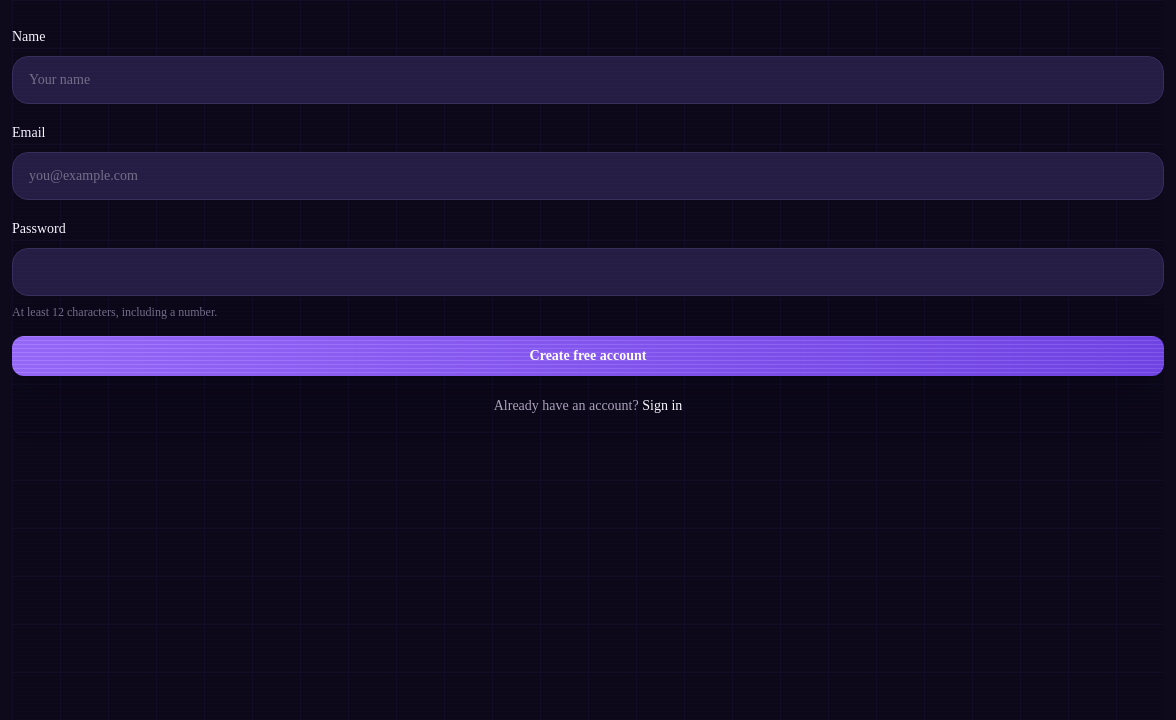
SignUpForm › explains a short password in its own words, without sending anything
Type "short1" into the password field labelled "Password".
click(588, 272); type("short1")  # box top-left (12, 248), bottom-right (1164, 296)
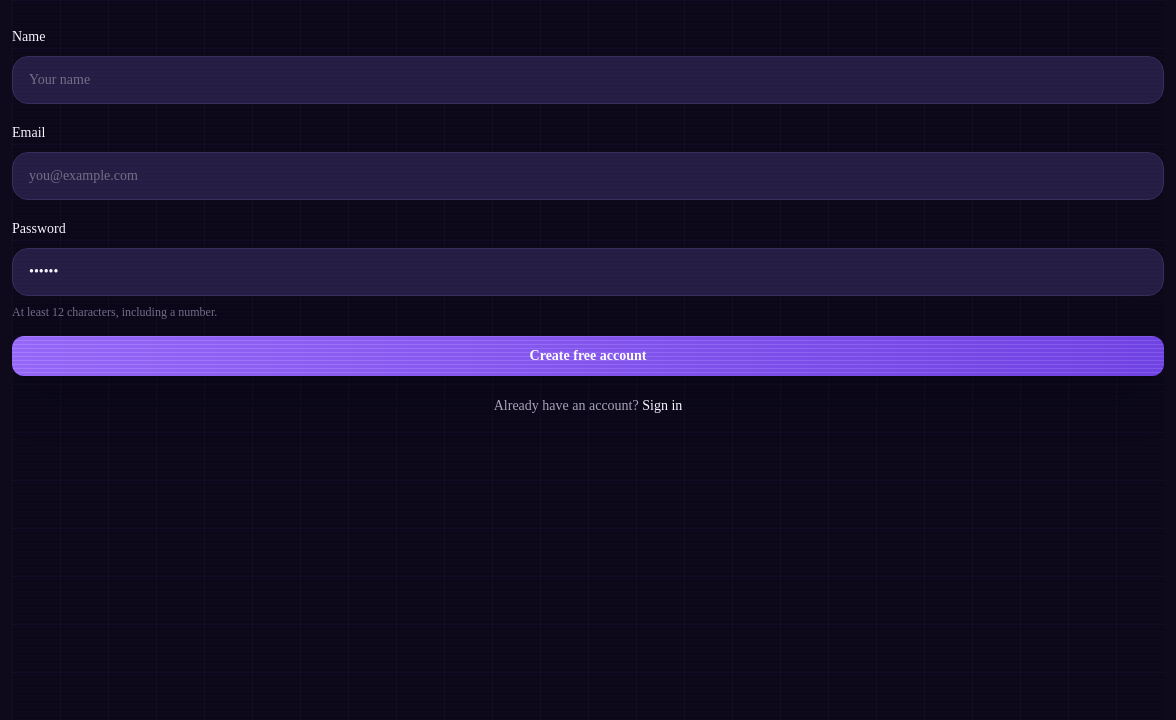
Submit the form named "Create free account", box top-left (12, 24), bottom-right (1164, 376)
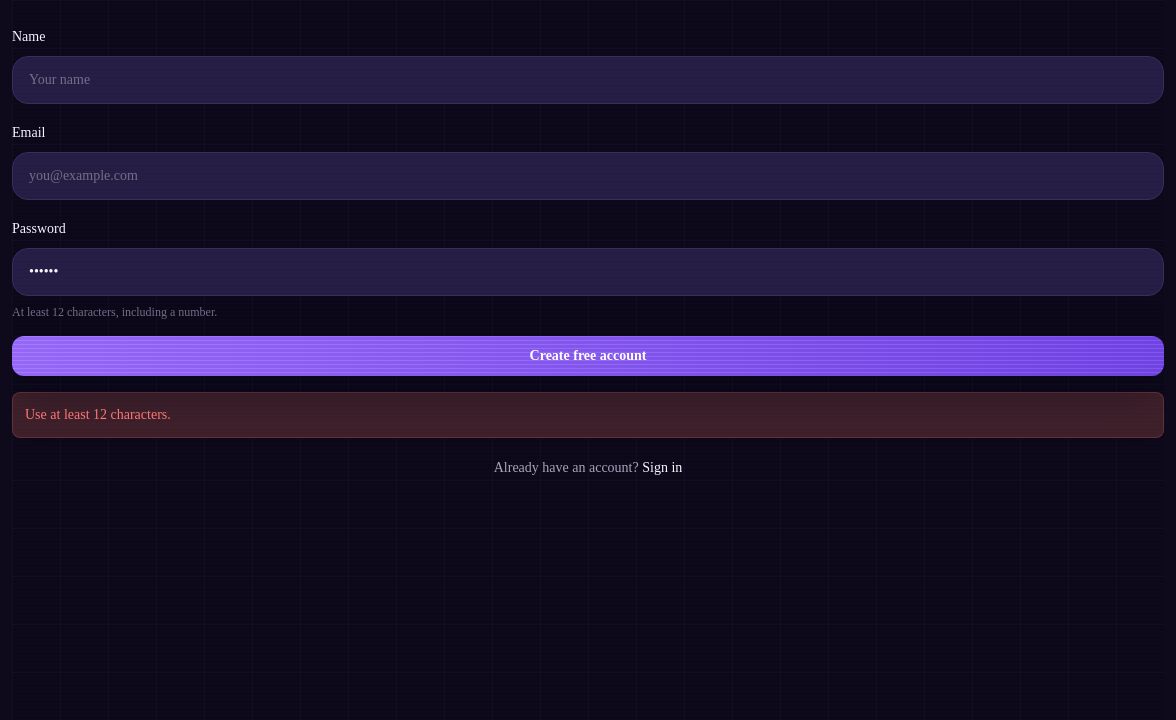
Now the message reads "Use at least 12 characters.", box top-left (25, 407), bottom-right (171, 422)
